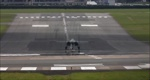maybay_muctieu: (56, 33, 88, 51)
